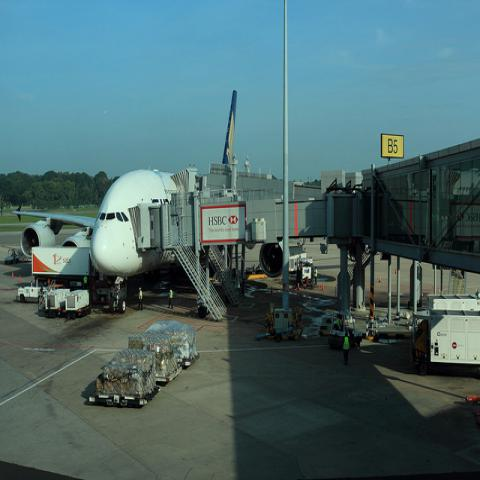car: (320, 316, 332, 335)
truck: (408, 289, 480, 377), (45, 289, 71, 317), (65, 289, 90, 318), (15, 281, 48, 302)
